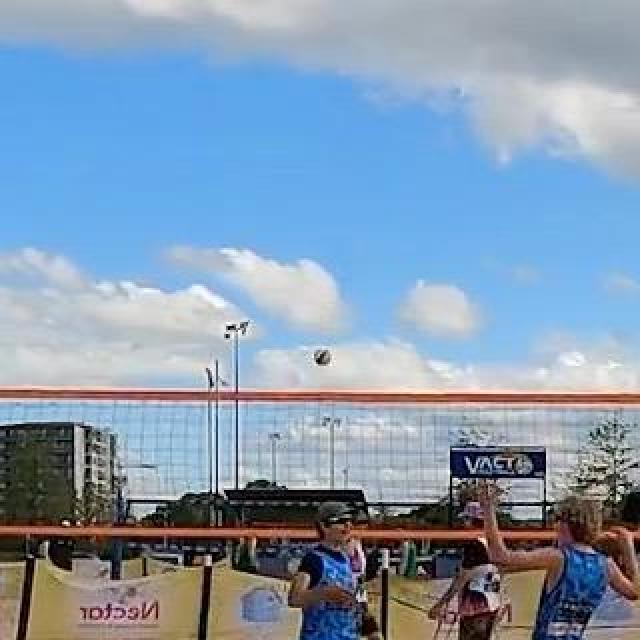volleyball: (314, 348, 332, 366)
